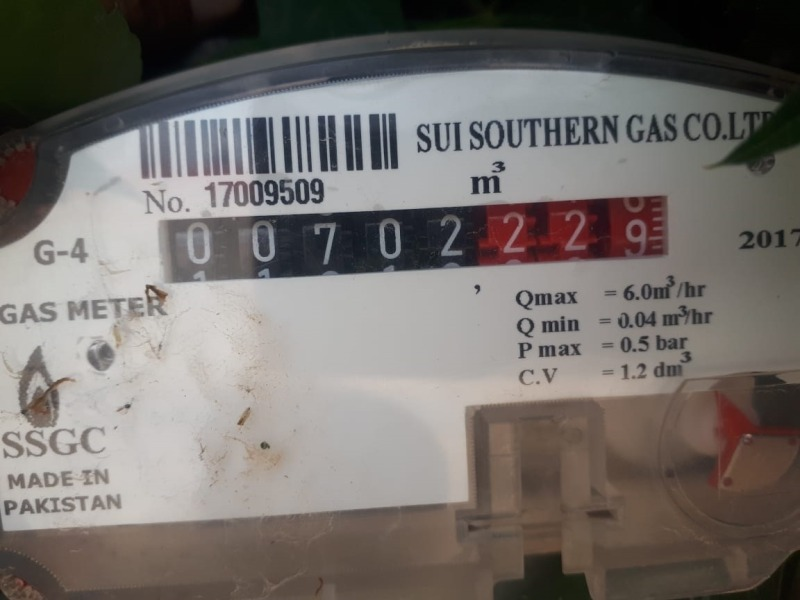ssgc: (156, 196, 671, 279)
